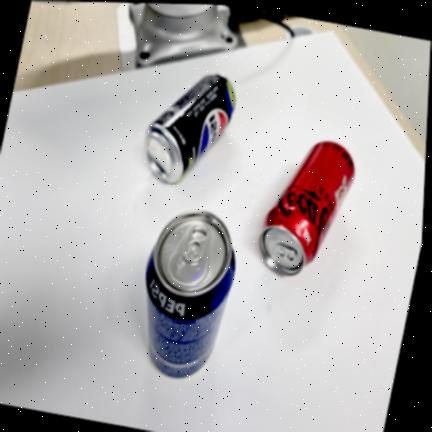can_coke_zero: (256, 141, 354, 279)
can_pepsi: (144, 208, 237, 380)
can_pepsi_zero: (143, 73, 236, 184)
